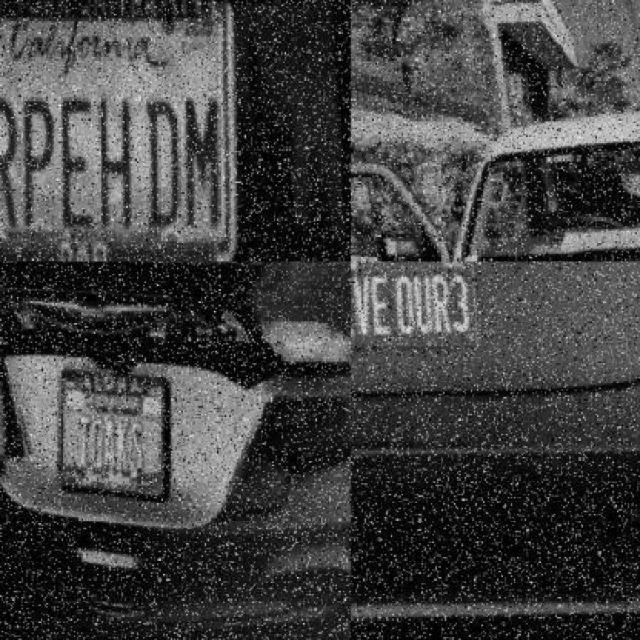licenseplate: (40, 359, 168, 507), (352, 261, 479, 375)
